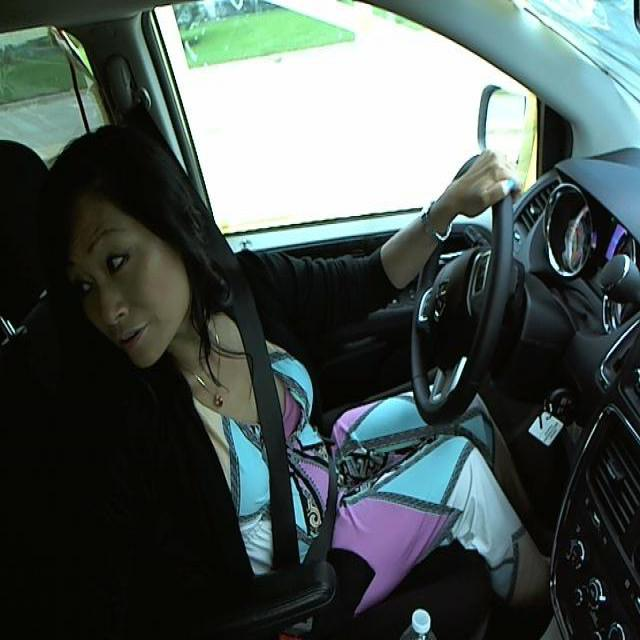seatbelt: (232, 292, 353, 573)
